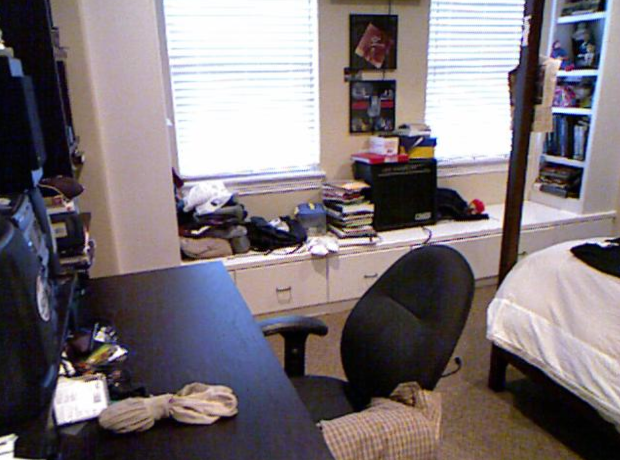cabinetDoor: (260, 269, 316, 307), (481, 240, 537, 267), (331, 259, 379, 282)
chair: (309, 244, 474, 418)
table: (71, 265, 226, 460)
window: (168, 4, 315, 161), (440, 4, 508, 154)
